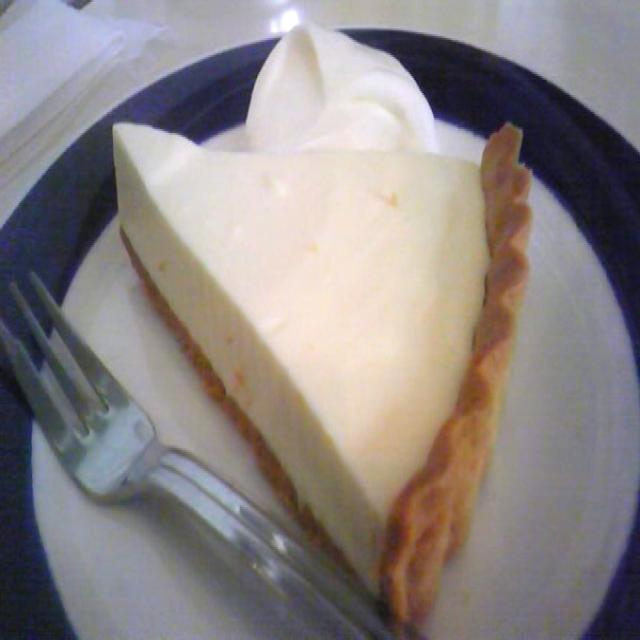熟制海鲜: (0, 40, 640, 640)
